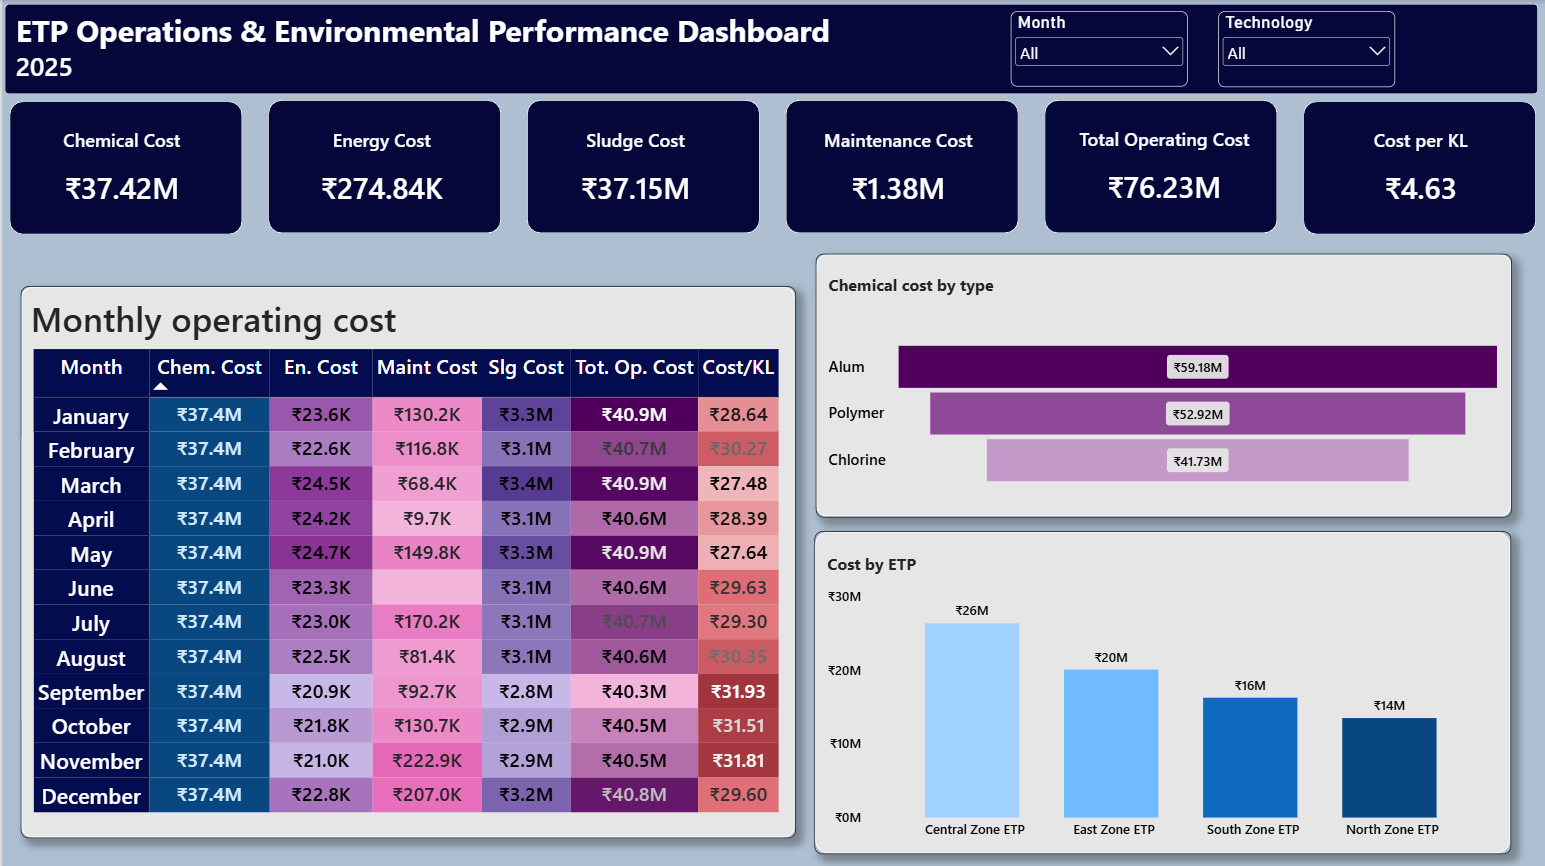

The page's visual inventory and layout, read from the dashboard file:
{"tool":"powerbi","page":{"name":"Cost & Resource Efficiency","canvas":[1920,1080],"ordinal":3},"visuals":[{"type":"group","id":"g1","title":"Group 3","box":[322.7,123.8,299,165.7],"z":0},{"type":"shape","box":[330.7,123.8,289.5,165.7],"z":0,"group":"g15"},{"type":"shape","box":[8.7,125.1,289.5,165.7],"z":0,"group":"g3"},{"type":"shape","box":[1011.4,315.9,865.8,327.6],"z":0,"group":"g8"},{"type":"group","id":"g2","title":"Group 9","box":[22.9,356.5,963.7,686.6],"z":0,"group":"g13"},{"type":"shape","box":[22.9,356.5,963.7,686.6],"z":0,"group":"g2"},{"type":"shape","box":[3.6,5.4,1907.1,112.5],"z":1000},{"type":"group","id":"g3","title":"Group 1","box":[8.7,125.1,289.5,165.7],"z":1000,"group":"g5"},{"type":"textbox","box":[35.3,367.1,497.7,58.2],"z":1000,"group":"g13"},{"type":"shape","box":[1010.2,660.1,866,401.6],"z":1000,"group":"g16"},{"type":"textbox","box":[17.7,12.4,1039.6,63.5],"z":2000},{"type":"shape","box":[652.7,123.8,289.5,165.7],"z":2000,"group":"g6"},{"type":"shape","box":[974.7,123.8,289.5,165.7],"z":3000,"group":"g7"},{"type":"slicer","fields":{"Values":["ETP_Master.Technology"]},"box":[1512.6,14.1,219.6,94.6],"z":4000},{"type":"shape","box":[1296.6,123.8,289.5,165.7],"z":4000,"group":"g9"},{"type":"textbox","box":[17.9,60.7,133.9,50],"z":5000},{"type":"shape","box":[1618.6,125.6,289.5,165.7],"z":5000,"group":"g11"},{"type":"group","id":"g4","title":"Group 11","box":[1009.6,660.1,866.6,402.4],"z":6000},{"type":"slicer","fields":{"Values":["Calendar.Month"]},"box":[1254.9,14.1,220.2,93.9],"z":7000},{"type":"group","id":"g5","title":"Group 2","box":[0,125.1,299,165.7],"z":8000},{"type":"group","id":"g6","title":"Group 4","box":[638.4,123.8,303.8,165.7],"z":9000},{"type":"pivotTable","title":"Parameter compliance","fields":{"Rows":["Calendar.Month"],"Values":["Daily_Operations.Tot_Camical Cost","Daily_Operations.Tot_Energy Cost","Daily_Operations.Tot_Maintenance Cost","Daily_Operations.Tot_Sludge Disposal Cost","Daily_Operations.Total Operating Cost","Daily_Operations.Cost per KL"]},"box":[22.9,420,963.7,623.1],"z":9000,"group":"g2"},{"type":"group","id":"g7","title":"Group 5","box":[974.7,123.8,289.5,165.7],"z":10000},{"type":"group","id":"g8","title":"Group 12","box":[1011.4,315.9,865.8,327.6],"z":10000,"group":"g10"},{"type":"group","id":"g9","title":"Group 6","box":[1295.9,123.8,299,165.7],"z":11000},{"type":"group","id":"g10","title":"Group 22","box":[1011.4,315.9,865.8,327.6],"z":11000,"group":"g12"},{"type":"group","id":"g11","title":"Group 7","box":[1618.6,125.6,289.5,165.7],"z":12000},{"type":"group","id":"g12","title":"Group 15","box":[1011.4,315.9,868.4,344.2],"z":14000},{"type":"group","id":"g13","title":"Group 13","box":[22.9,356.5,963.7,686.6],"z":15000},{"type":"lineStackedColumnComboChart","title":"Cost by ETP","fields":{"Category":["ETP_Master.ETP_Name"],"Y":["Daily_Operations.Total Operating Cost"]},"box":[1009.6,672.3,866,390.2],"z":16002,"group":"g16"},{"type":"funnel","title":"Chemical cost by type","fields":{"Category":["Chemical_Consumption.Chemical"],"Y":["Daily_Operations.Total Operating Cost"]},"box":[1011.7,326.9,868.1,333.1],"z":17000,"group":"g12"},{"type":"cardVisual","fields":{"Data":["Daily_Operations.Tot_Sludge Disposal Cost"]},"box":[638.4,137.8,299,140.7],"z":18000,"group":"g6"},{"type":"group","id":"g14","title":"Group 21","box":[1009.6,660.1,866.6,402.4],"z":18003,"group":"g4"},{"type":"cardVisual","fields":{"Data":["Daily_Operations.Tot_Maintenance Cost"]},"box":[975,137.8,280.8,141.3],"z":19000,"group":"g7"},{"type":"cardVisual","fields":{"Data":["Daily_Operations.Total Operating Cost"]},"box":[1295.9,136,299,140.7],"z":20000,"group":"g9"},{"type":"cardVisual","fields":{"Data":["Daily_Operations.Tot_Camical Cost"]},"box":[0,137.8,299,140.7],"z":20000,"group":"g5"},{"type":"group","id":"g15","title":"Group 1","box":[330.7,123.8,289.5,165.7],"z":20500,"group":"g1"},{"type":"cardVisual","fields":{"Data":["Daily_Operations.Tot_Energy Cost"]},"box":[322.7,137.8,299,140.7],"z":21000,"group":"g1"},{"type":"cardVisual","fields":{"Data":["Daily_Operations.Cost per KL"]},"box":[1622.1,137.8,286,141.3],"z":21000,"group":"g11"},{"type":"group","id":"g16","title":"Group 16","box":[1009.6,660.1,866.6,402.4],"z":22003,"group":"g14"}]}

Visuals, with their boxes in screenshot pixels (x1, y1, x2, y2), scaled from the page's 1920x1080 canvas onto the 1545x866 screenshot:
"Group 3" group: [left=260, top=99, right=500, bottom=232]
shape: [left=266, top=99, right=499, bottom=232]
shape: [left=7, top=100, right=240, bottom=233]
shape: [left=814, top=253, right=1511, bottom=516]
"Group 9" group: [left=18, top=286, right=794, bottom=836]
shape: [left=18, top=286, right=794, bottom=836]
shape: [left=3, top=4, right=1538, bottom=95]
"Group 1" group: [left=7, top=100, right=240, bottom=233]
textbox: [left=28, top=294, right=429, bottom=341]
shape: [left=813, top=529, right=1510, bottom=851]
textbox: [left=14, top=10, right=851, bottom=61]
shape: [left=525, top=99, right=758, bottom=232]
shape: [left=784, top=99, right=1017, bottom=232]
slicer - ETP_Master.Technology: [left=1217, top=11, right=1394, bottom=87]
shape: [left=1043, top=99, right=1276, bottom=232]
textbox: [left=14, top=49, right=122, bottom=89]
shape: [left=1302, top=101, right=1535, bottom=234]
"Group 11" group: [left=812, top=529, right=1510, bottom=852]
slicer - Calendar.Month: [left=1010, top=11, right=1187, bottom=87]
"Group 2" group: [left=0, top=100, right=241, bottom=233]
"Group 4" group: [left=514, top=99, right=758, bottom=232]
"Parameter compliance" pivotTable: [left=18, top=337, right=794, bottom=836]
"Group 5" group: [left=784, top=99, right=1017, bottom=232]
"Group 12" group: [left=814, top=253, right=1511, bottom=516]
"Group 6" group: [left=1043, top=99, right=1283, bottom=232]
"Group 22" group: [left=814, top=253, right=1511, bottom=516]
"Group 7" group: [left=1302, top=101, right=1535, bottom=234]
"Group 15" group: [left=814, top=253, right=1513, bottom=529]
"Group 13" group: [left=18, top=286, right=794, bottom=836]
"Cost by ETP" lineStackedColumnComboChart: [left=812, top=539, right=1509, bottom=852]
"Chemical cost by type" funnel: [left=814, top=262, right=1513, bottom=529]
cardVisual - Daily_Operations.Tot_Sludge Disposal Cost: [left=514, top=110, right=754, bottom=223]
"Group 21" group: [left=812, top=529, right=1510, bottom=852]
cardVisual - Daily_Operations.Tot_Maintenance Cost: [left=785, top=110, right=1011, bottom=224]
cardVisual - Daily_Operations.Total Operating Cost: [left=1043, top=109, right=1283, bottom=222]
cardVisual - Daily_Operations.Tot_Camical Cost: [left=0, top=110, right=241, bottom=223]
"Group 1" group: [left=266, top=99, right=499, bottom=232]
cardVisual - Daily_Operations.Tot_Energy Cost: [left=260, top=110, right=500, bottom=223]
cardVisual - Daily_Operations.Cost per KL: [left=1305, top=110, right=1535, bottom=224]
"Group 16" group: [left=812, top=529, right=1510, bottom=852]
